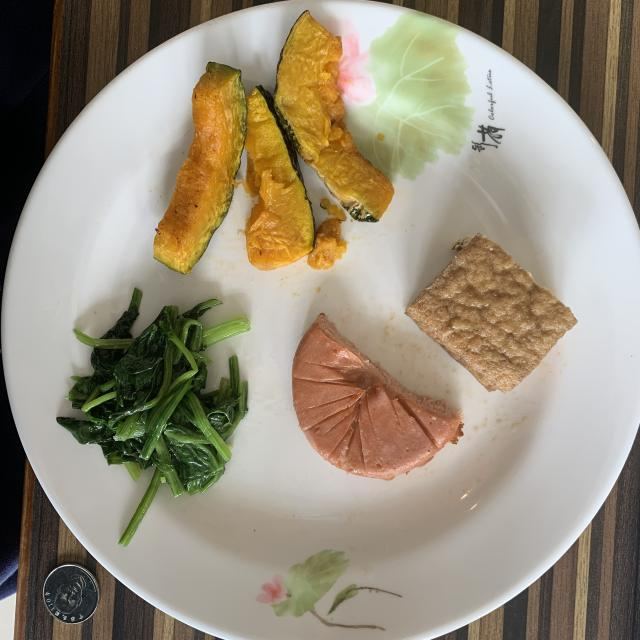Spam: (292, 314, 464, 480)
coin: (42, 564, 99, 624)
egg tofu: (406, 234, 576, 392)
mustard greens: (56, 290, 249, 545)
pumpkin: (154, 11, 394, 274)
